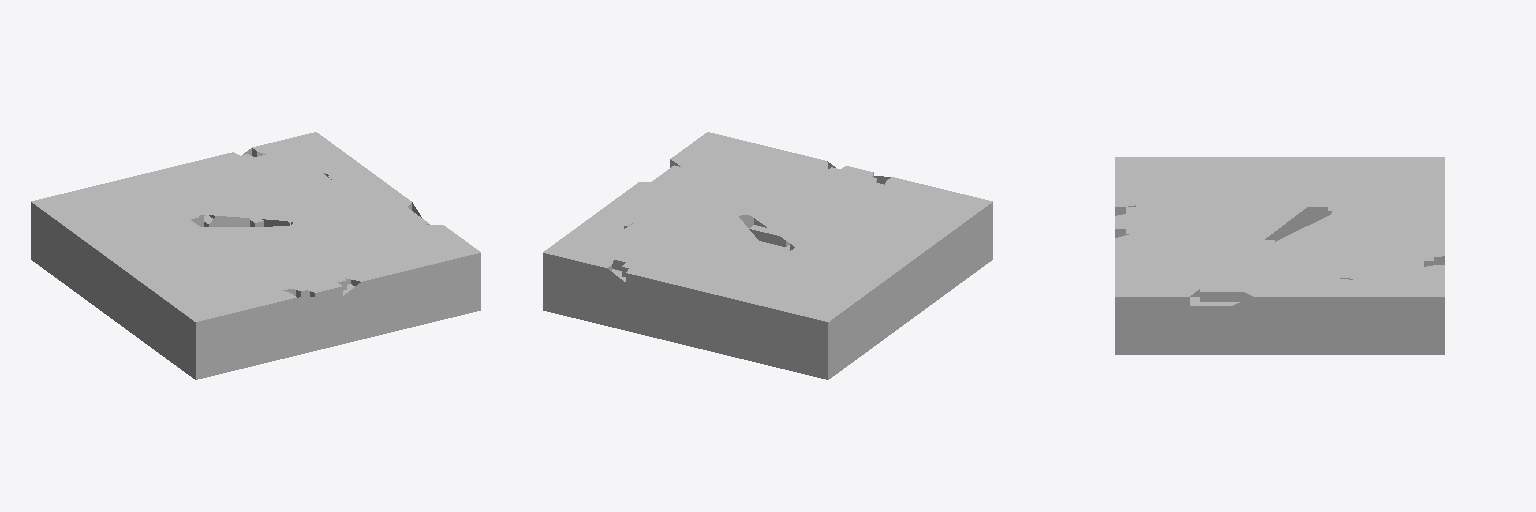
File: Floor_Stairs_Cracked.obj
The picture shows the model from 3 angles: view 1: azimuth 30°, elevation 25°; view 2: azimuth 150°, elevation 25°; view 3: azimuth 270°, elevation 25°; orthographic projection.
Parts seen in each view (by area): view 1: Floor_Stairs_Cracked_Floor_Stairs_Cracked.001; view 2: Floor_Stairs_Cracked_Floor_Stairs_Cracked.001; view 3: Floor_Stairs_Cracked_Floor_Stairs_Cracked.001.
Part boxes in pixels (bbox=[...]): Floor_Stairs_Cracked_Floor_Stairs_Cracked.001: bbox=[31, 132, 480, 379]; Floor_Stairs_Cracked_Floor_Stairs_Cracked.001: bbox=[543, 132, 992, 379]; Floor_Stairs_Cracked_Floor_Stairs_Cracked.001: bbox=[1115, 157, 1444, 354].
Size of the model in its own units: 3.1 by 0.6 by 3.1.